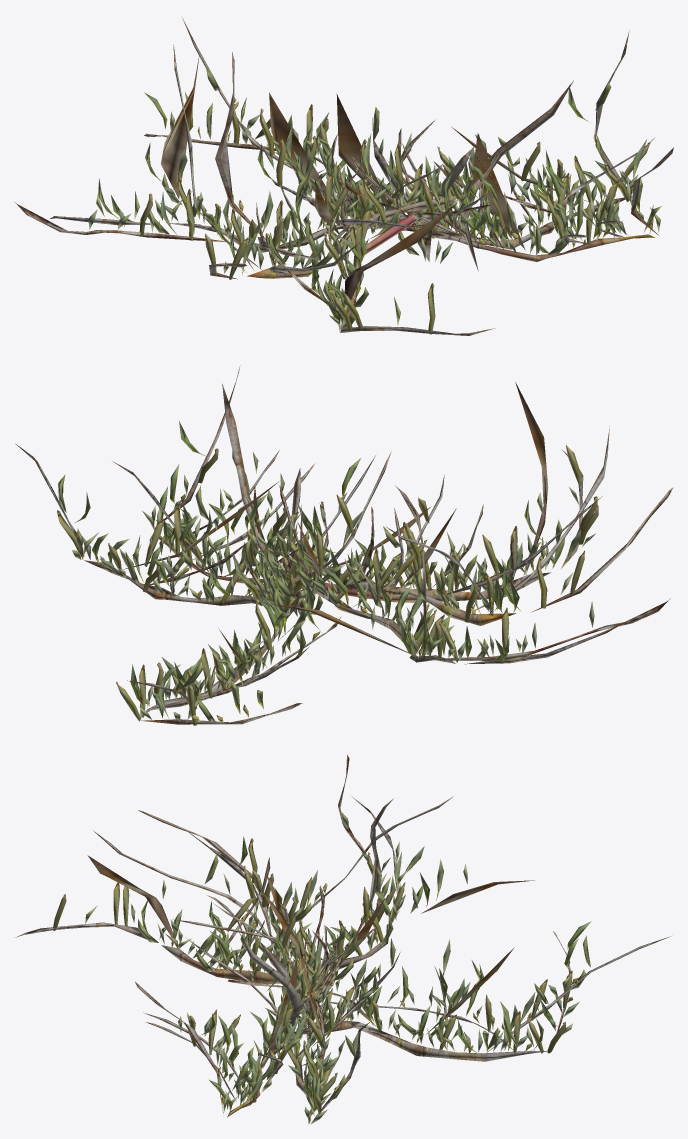
Rendered from flower_purple.glb.
3 renders of one model, top to bottom at view 1: azimuth 30°, elevation 25°; view 2: azimuth 150°, elevation 25°; view 3: azimuth 270°, elevation 25°, orthographic. The views are drawn at different scales.
Parts seen in each view (by area): view 1: flower_purple; view 2: flower_purple; view 3: flower_purple.
Boxes of the visible parts, x1,y1,x2,y2 form: flower_purple: (15, 17, 673, 335); flower_purple: (15, 365, 673, 725); flower_purple: (15, 754, 670, 1124).
Bounding box in the file's own units: 0.5924 × 0.1987 × 0.6035.
1 material, 1 textured.
